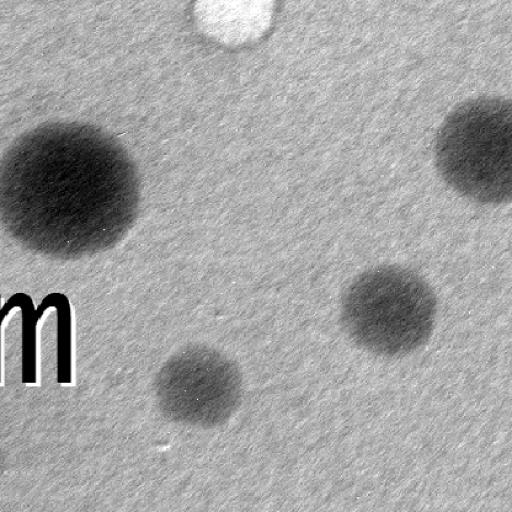Nanoparticles: (0, 120, 138, 256), (337, 263, 438, 355), (435, 96, 512, 202), (152, 344, 242, 426), (191, 0, 281, 49)
